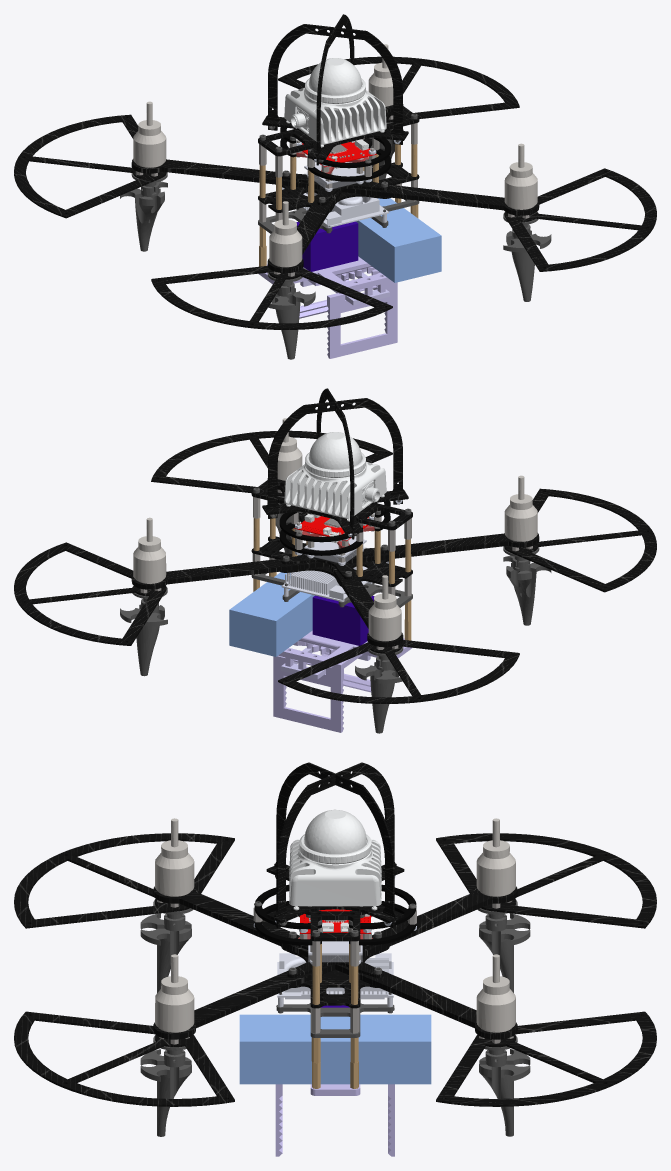
The model's file is drone_gripper_battery_LiDAR.dae.
3 views of the same model, one above another, from view 1: azimuth 30°, elevation 25°; view 2: azimuth 150°, elevation 25°; view 3: azimuth 270°, elevation 25° (orthographic). The views are drawn at different scales.
Visible parts, largest first — view 1: Shape_IndexedFaceSet; view 2: Shape_IndexedFaceSet; view 3: Shape_IndexedFaceSet.
Part boxes in pixels (x1,y1,x2,y2): Shape_IndexedFaceSet: [14, 14, 656, 359]; Shape_IndexedFaceSet: [14, 388, 656, 733]; Shape_IndexedFaceSet: [14, 762, 656, 1156].
Size of the model in its own units: 0.4523 by 0.4523 by 0.2803.
Materials: 386 (11 with a texture image).
